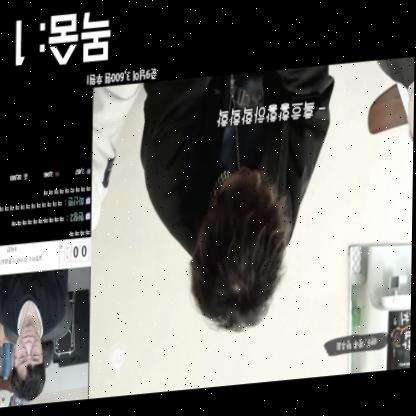donation: (81, 48, 415, 402)
streamer: (0, 270, 68, 404)
